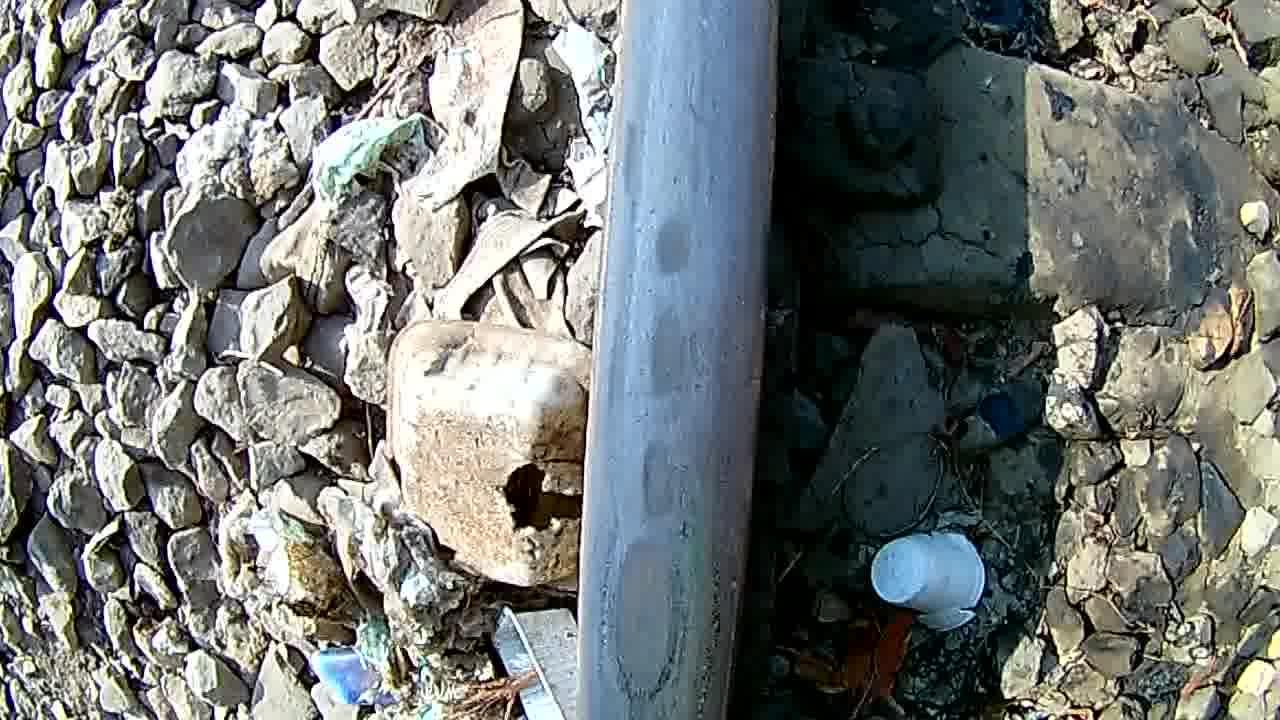bolt_missing: (586, 0, 794, 720)
